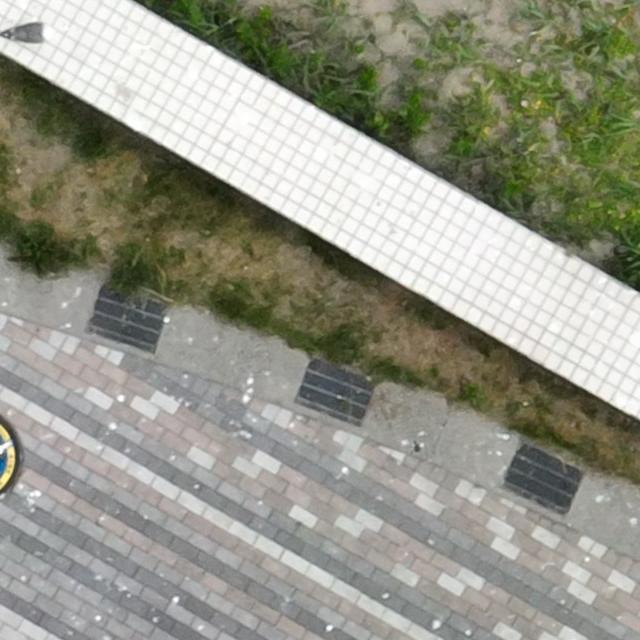umineko: (12, 26, 44, 41)
